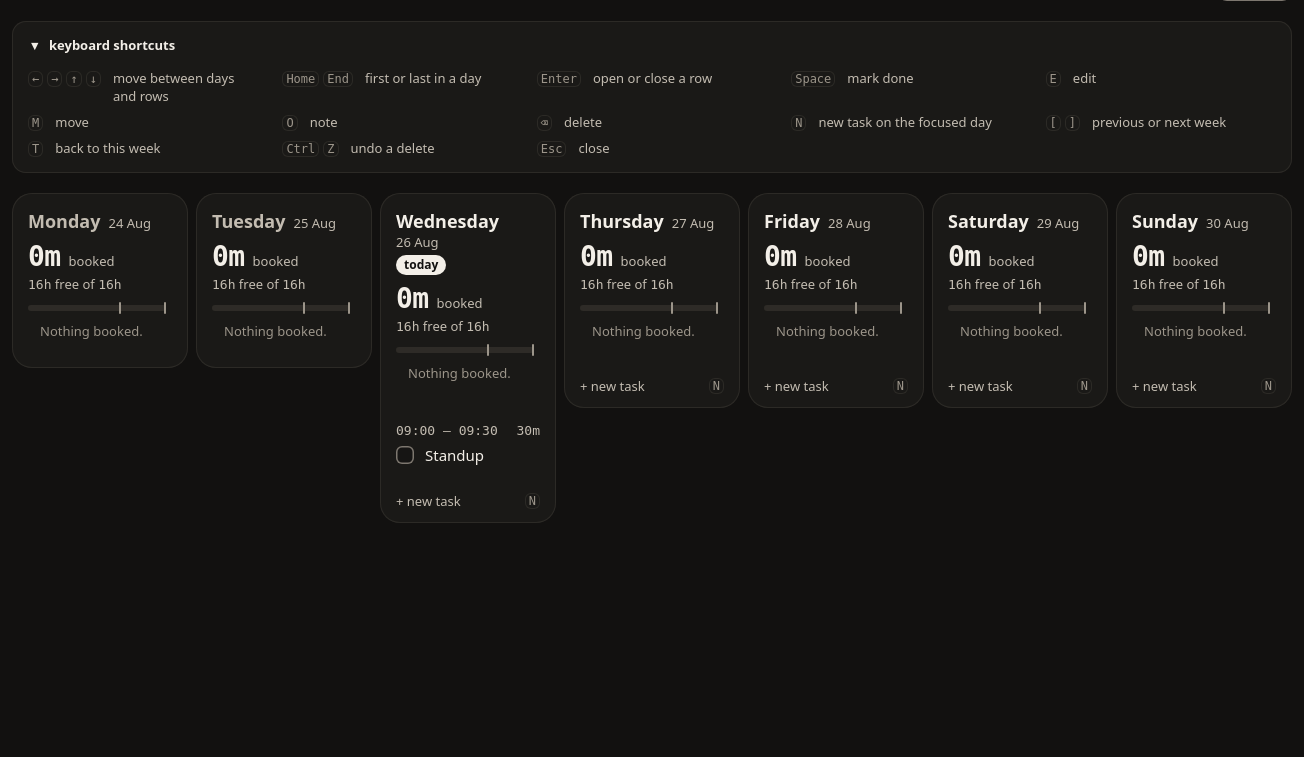
Test: deleting a task that cannot come back › goes back to the row without deleting when it is kept
The image size is (1304, 757).
Click the cell "09:00 – 09:30 30m Standup": (468, 444) left=384, top=410, right=552, bottom=479
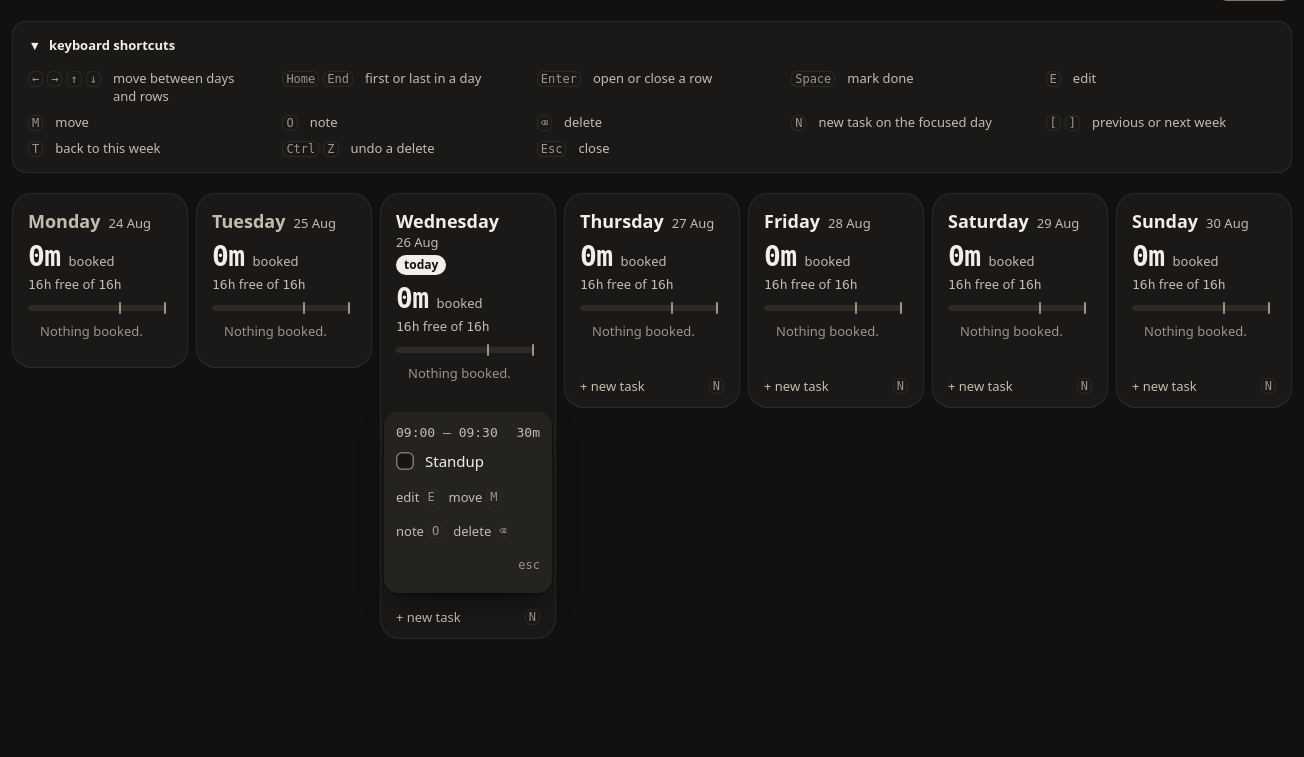
Check: the cell "09:00 – 09:30 30m Standup edit E move M note O delete ⌫ esc" is shown, box left=384, top=412, right=552, bottom=593
Click the button "delete ⌫": (482, 531) left=449, top=515, right=514, bottom=547
(page scrolled)
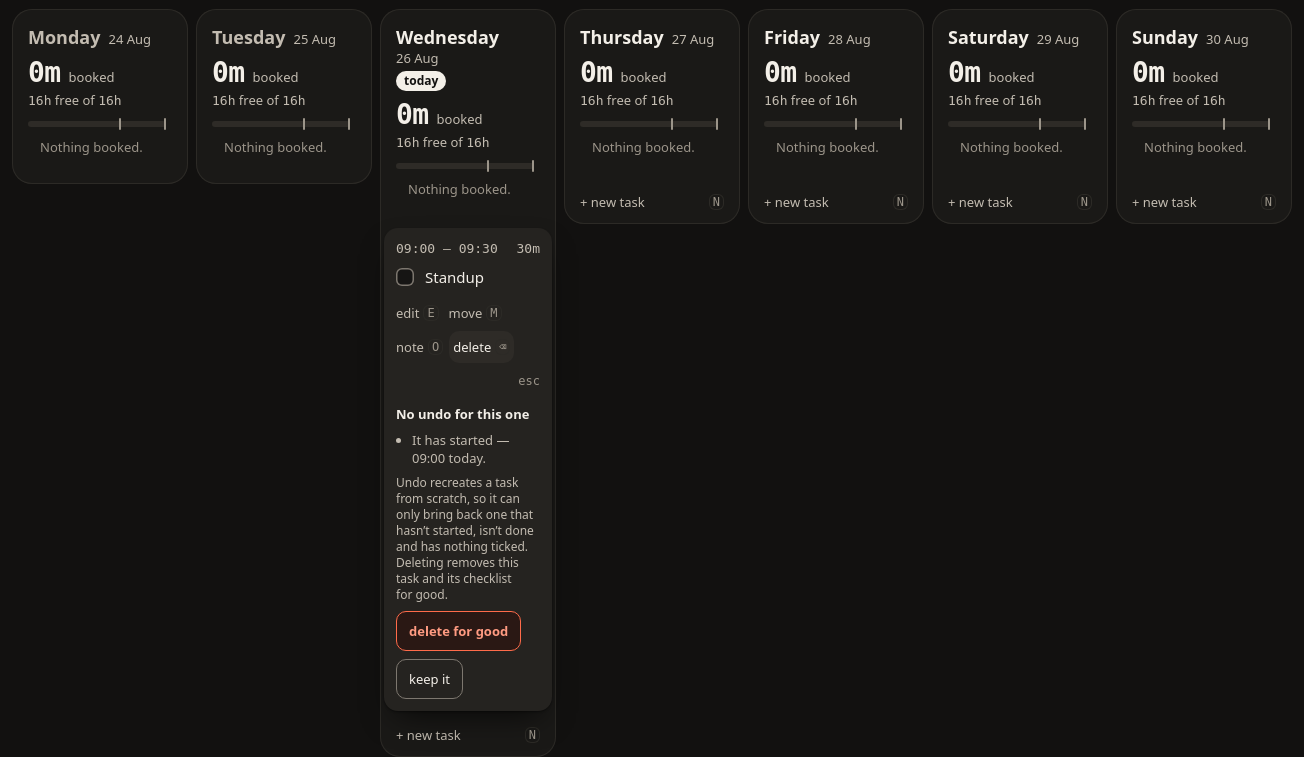
Click the button "keep it": (430, 679) left=396, top=659, right=463, bottom=699
(page scrolled)
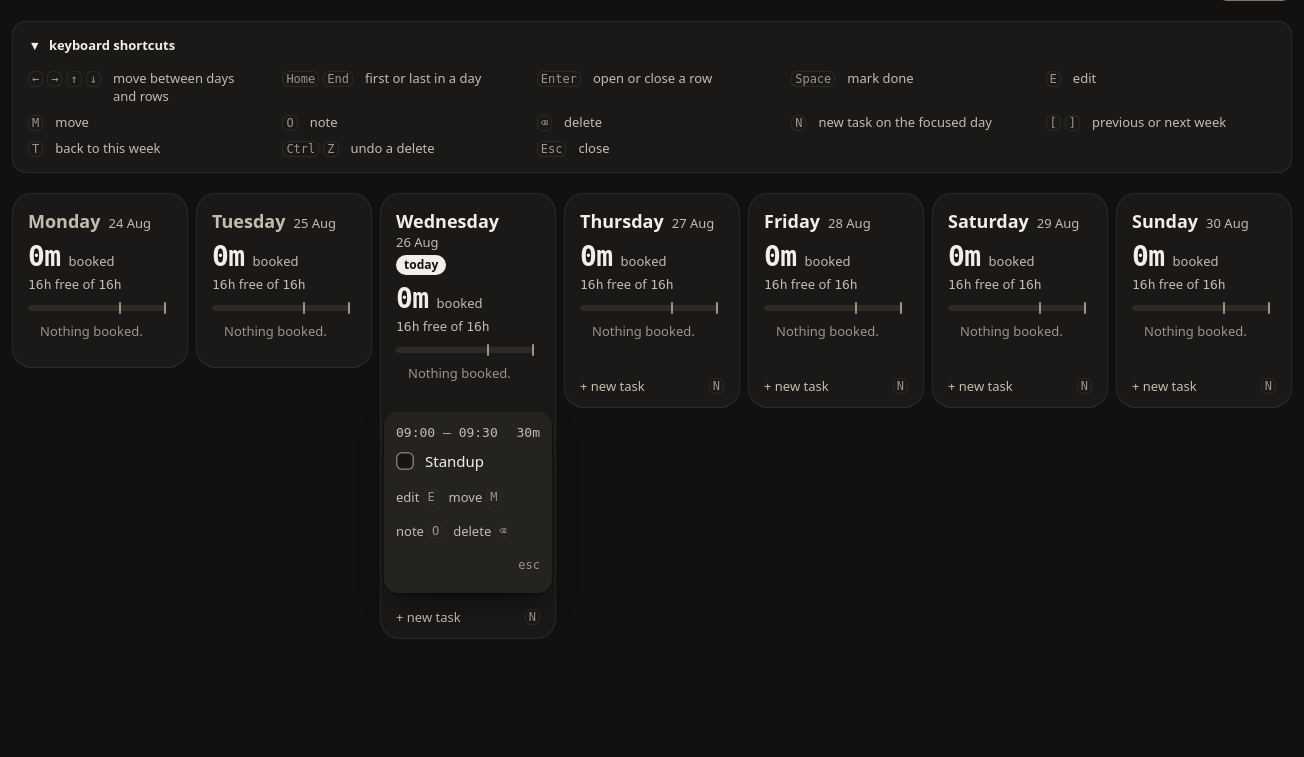
Check: the cell "09:00 – 09:30 30m Standup edit E move M note O delete ⌫ esc" is shown, box left=384, top=412, right=552, bottom=593
Check: the text "No undo for this one" is gone
